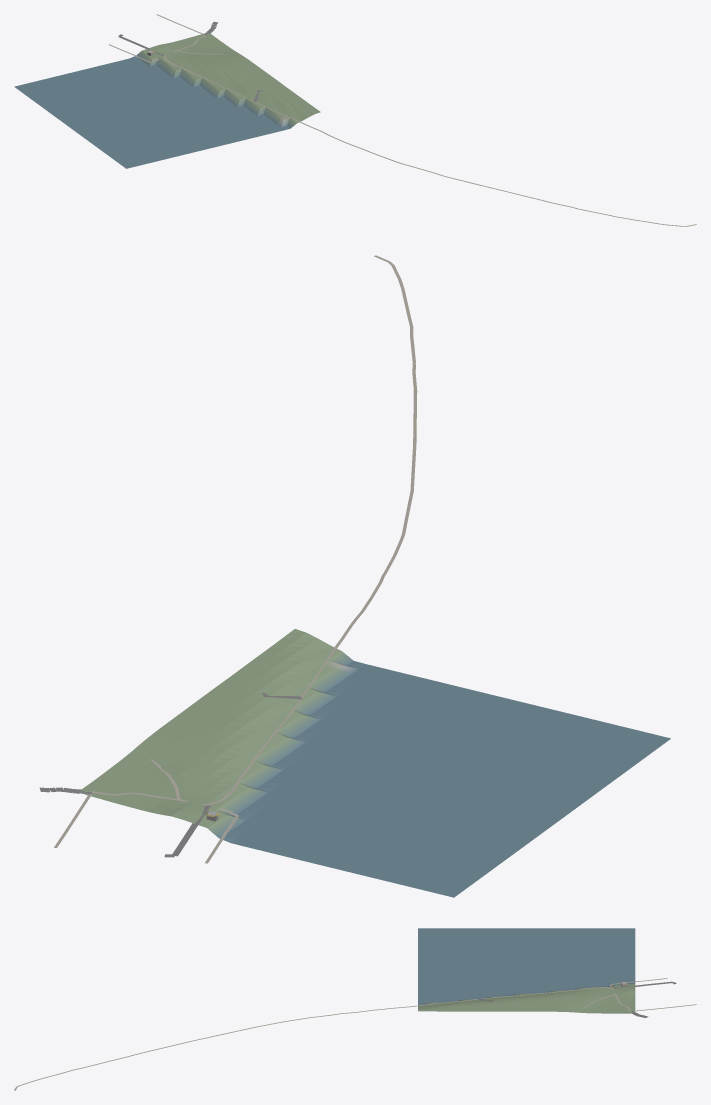
The model's file is tile_4_-4.glb.
The picture shows the model from 3 angles, top to bottom: view 1: azimuth 30°, elevation 25°; view 2: azimuth 150°, elevation 25°; view 3: azimuth 270°, elevation 25°; orthographic projection. The views are drawn at different scales.
Parts seen in each view (by area): view 1: terrain, paths; view 2: terrain, paths; view 3: terrain, paths.
Boxes of the visible parts, x1,y1,x2,y2 form: terrain: (14, 33, 320, 168); paths: (108, 14, 696, 226); terrain: (80, 629, 670, 897); paths: (54, 255, 417, 863); terrain: (418, 928, 635, 1013); paths: (14, 978, 696, 1090).
Size of the model in its own units: 476 by 11.88 by 804.
